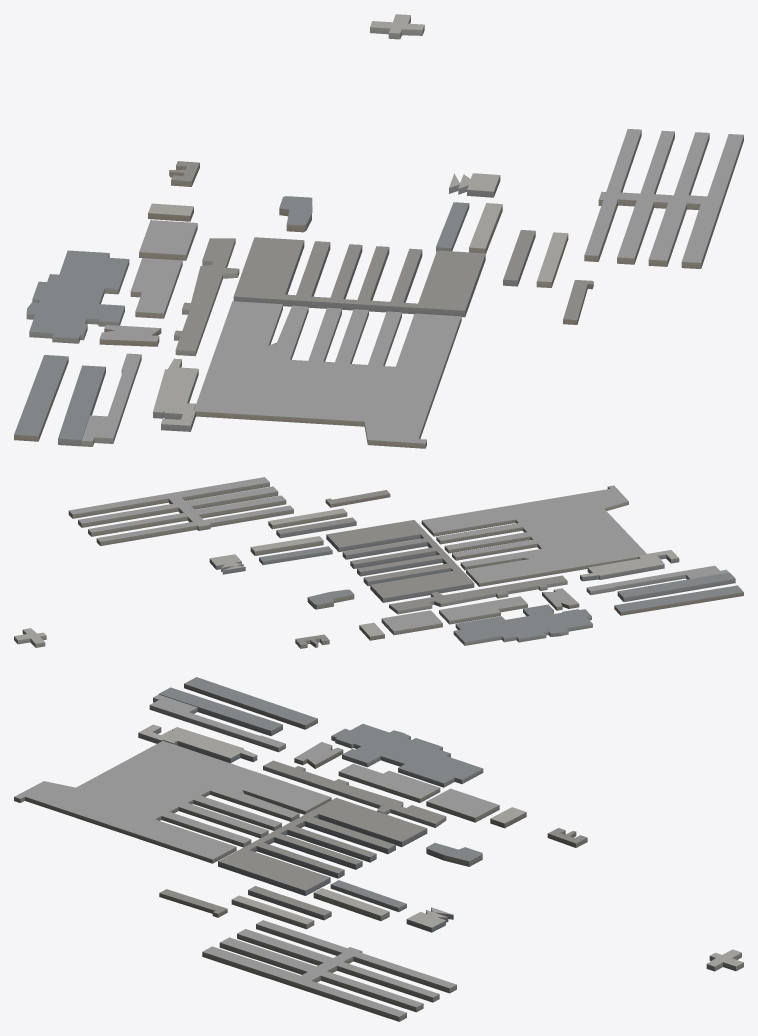
File: bld_3_0.fbx
The picture shows the model from 3 angles, top to bottom: view 1: azimuth 30°, elevation 25°; view 2: azimuth 150°, elevation 25°; view 3: azimuth 270°, elevation 25°; orthographic projection. The views are drawn at different scales.
Parts seen in each view (by area): view 1: bld_3_0_LOD0; view 2: bld_3_0_LOD0; view 3: bld_3_0_LOD0.
Boxes of the visible parts, box(x1,y1,x2,y2) form: bld_3_0_LOD0: box(14, 14, 743, 448); bld_3_0_LOD0: box(14, 477, 743, 648); bld_3_0_LOD0: box(14, 677, 743, 1021).
Bounding box in the file's own units: 1467 × 11.2 × 1329.
